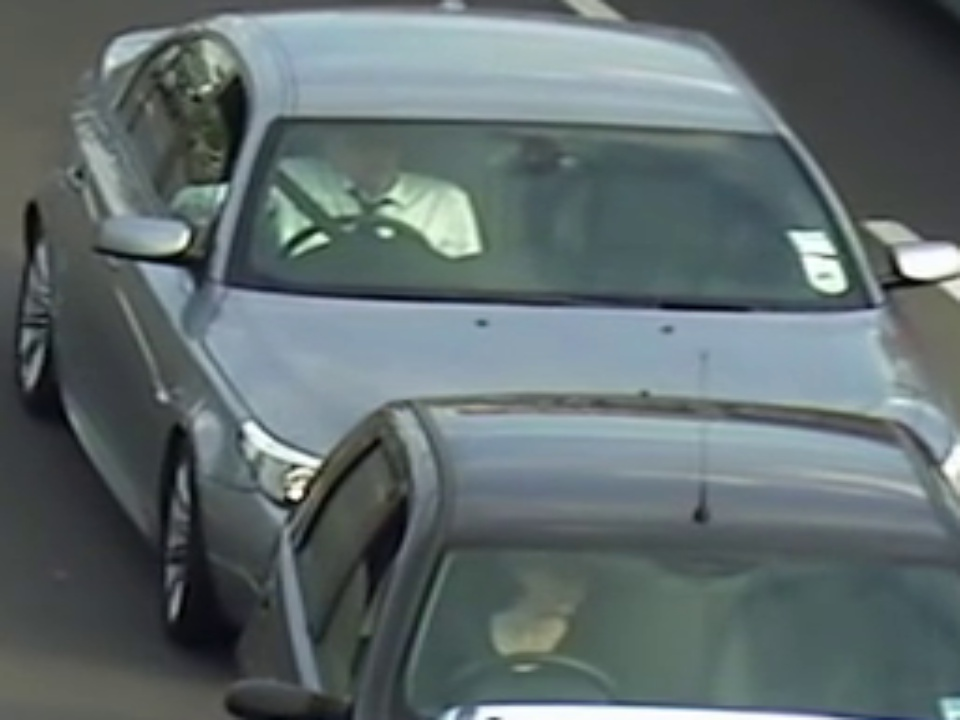ONE: (260, 118, 848, 305)
